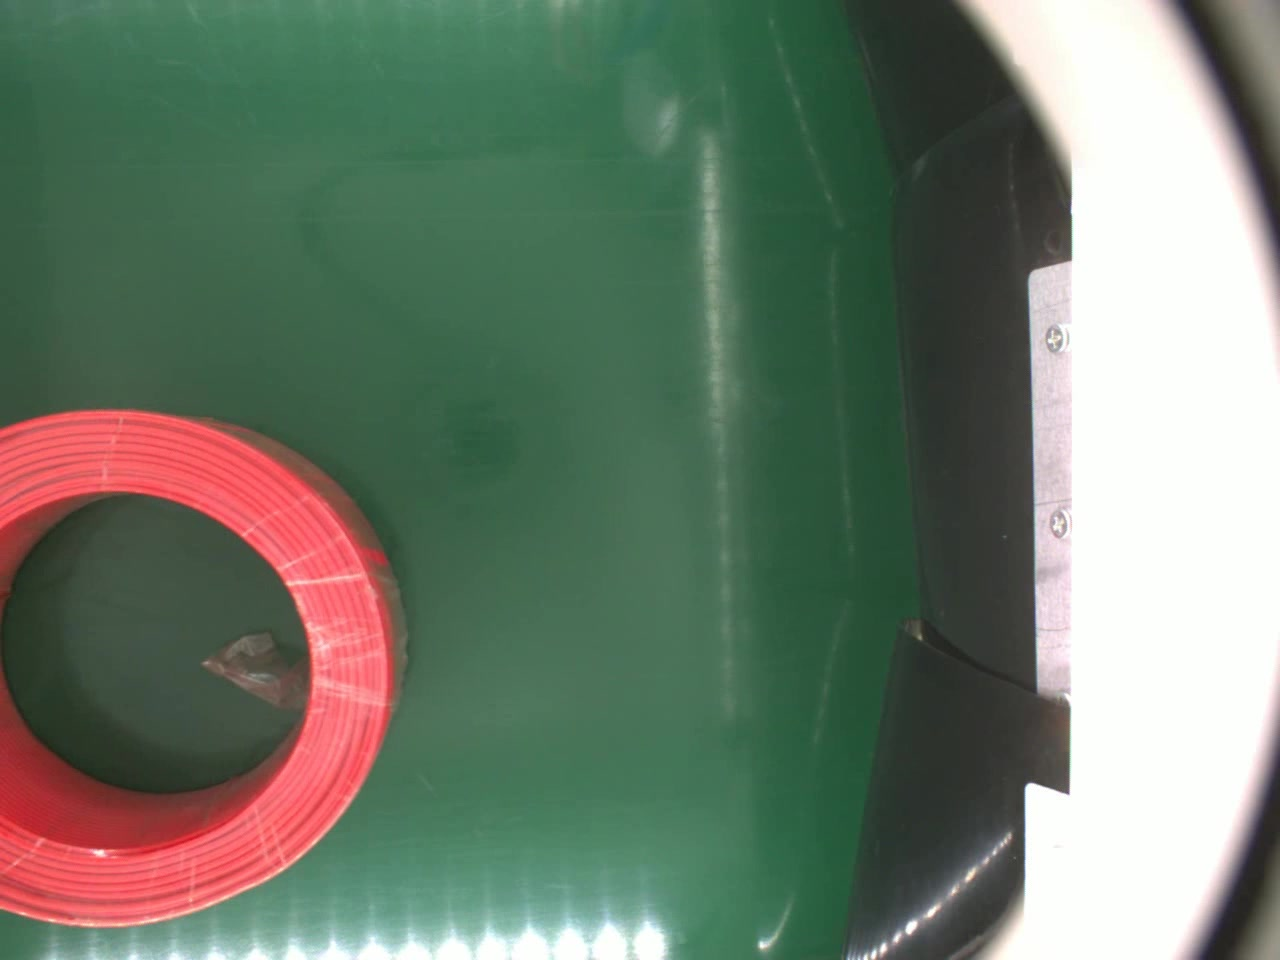red: (0, 400, 410, 931)
